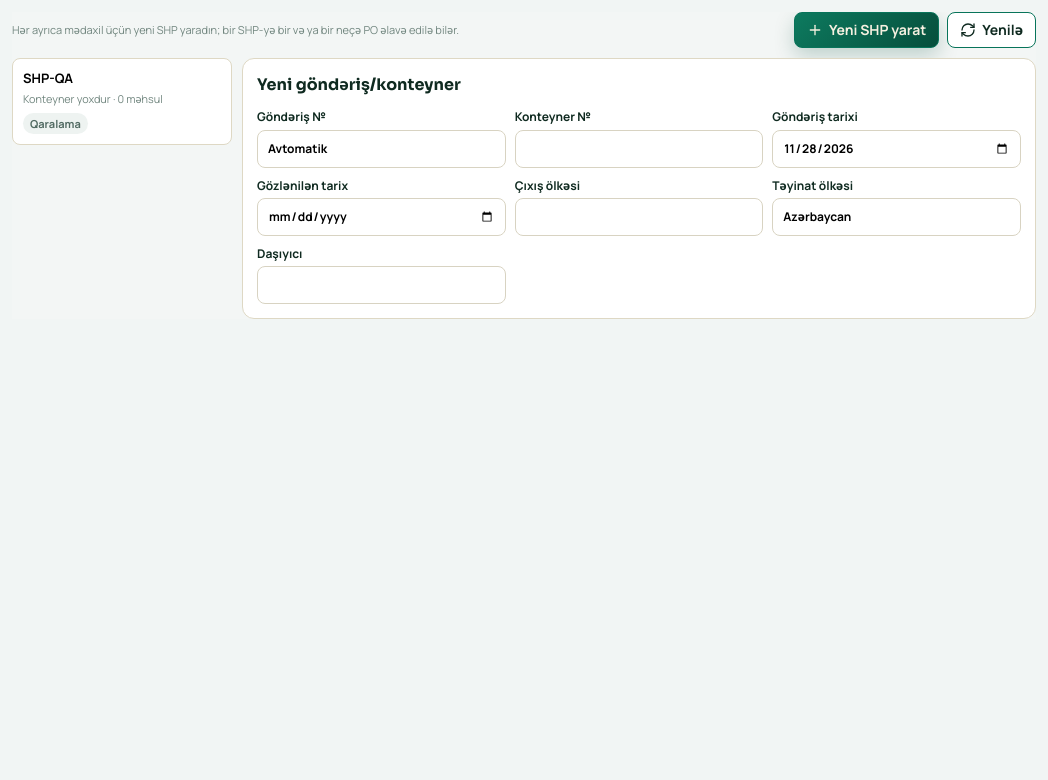
Test: scopes purchase lines through the tenant parent and gives the warehouse picker an exact accessible name
This screenshot has width=1048, height=780.
Click the button "SHP-QA Konteyner yoxdur · 0 məhsul Qaralama" at (122, 102), box [12,58,232,146]
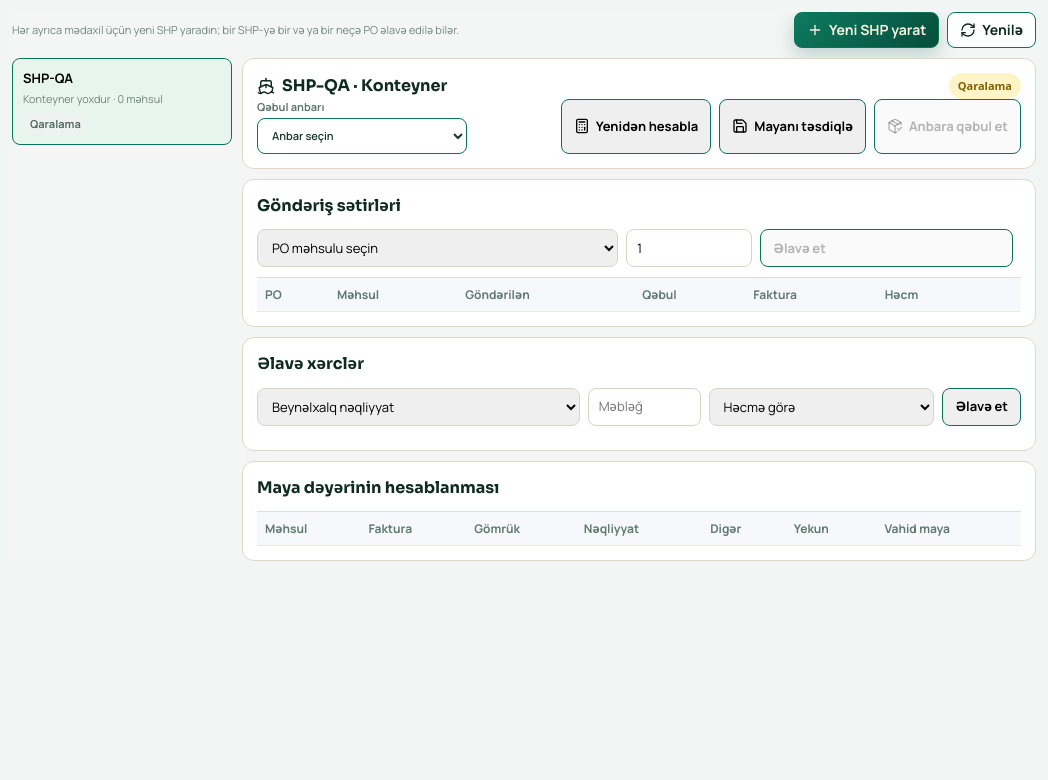
Expected: the dropdown labelled "Qəbul anbarı" is shown, [257,118,467,154]
